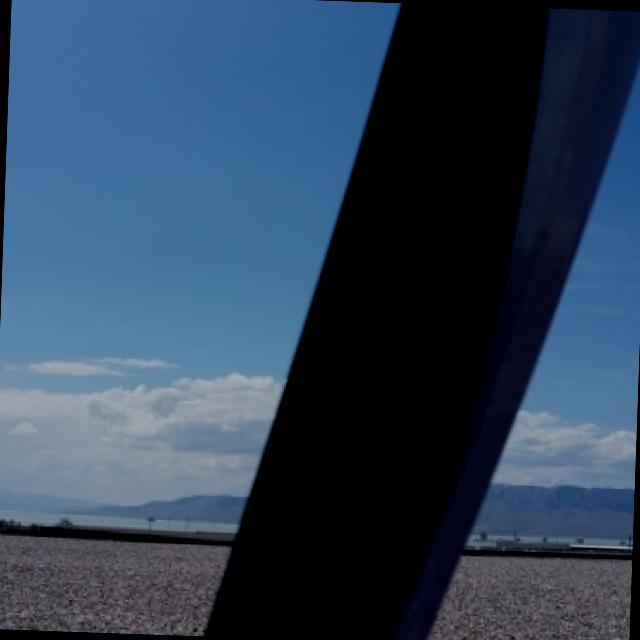healthy: (528, 70, 640, 425)
